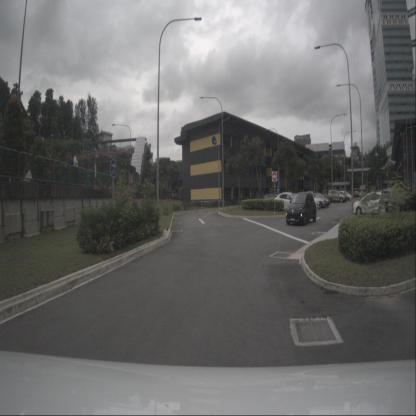vehicle-car: (377, 188, 416, 218), (286, 192, 318, 226), (352, 190, 392, 216), (274, 192, 303, 212), (304, 191, 331, 207), (298, 192, 322, 209), (304, 192, 327, 208), (328, 189, 345, 203), (336, 191, 350, 201), (350, 190, 362, 198)
